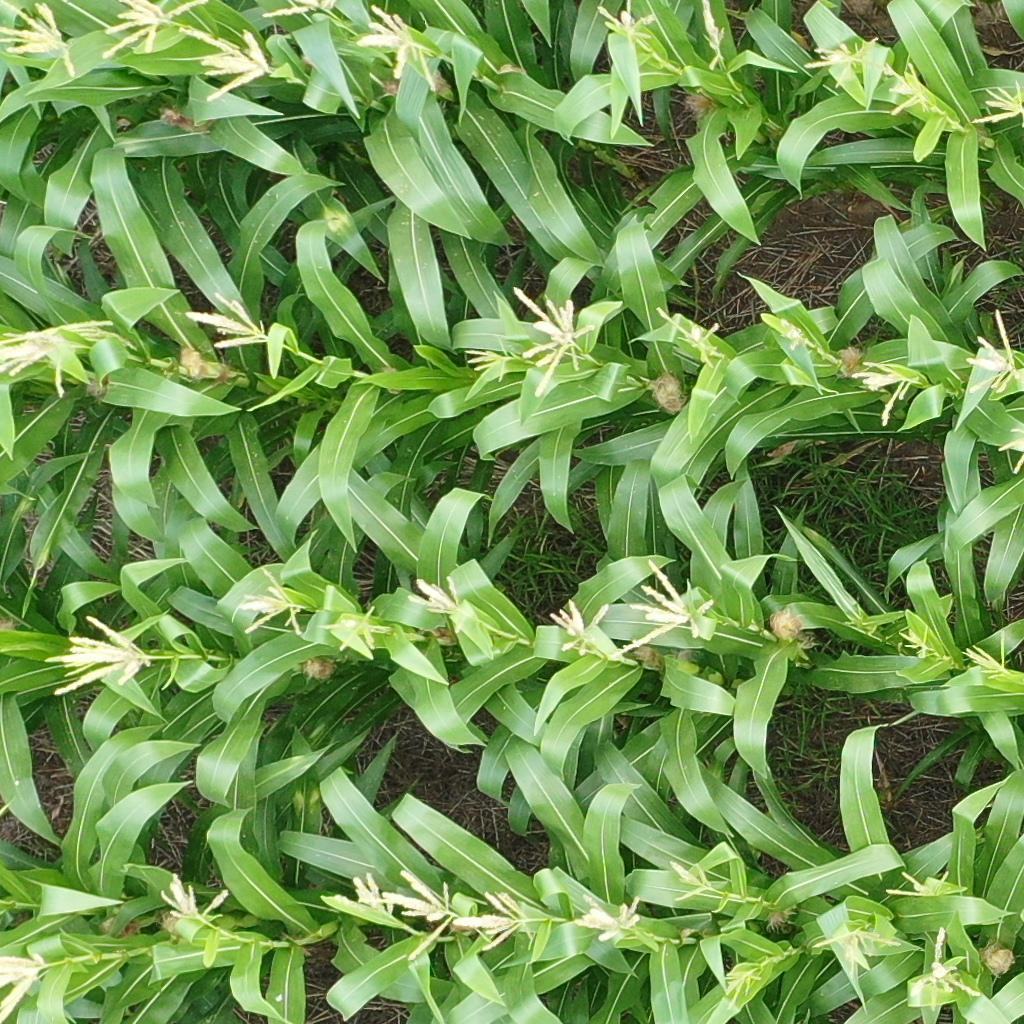Tassel: (604, 560, 718, 663), (1, 314, 136, 399), (514, 284, 600, 401), (42, 612, 152, 700), (378, 862, 459, 965), (357, 4, 441, 95), (906, 925, 981, 1015), (180, 29, 272, 100), (99, 1, 210, 58), (1, 1, 81, 79), (451, 887, 540, 956), (233, 565, 312, 638), (813, 921, 901, 983), (851, 358, 922, 430), (186, 294, 270, 351), (960, 310, 1011, 400), (655, 308, 727, 370), (152, 870, 229, 925), (571, 890, 647, 945), (547, 596, 609, 659), (803, 31, 877, 82), (597, 1, 661, 54), (324, 603, 390, 652), (1, 953, 46, 1024), (331, 871, 396, 918), (405, 571, 464, 621), (885, 865, 962, 903), (689, 1, 730, 69), (885, 63, 930, 119), (960, 633, 1011, 681), (666, 858, 715, 904), (721, 964, 763, 1011), (467, 346, 514, 383), (966, 81, 1003, 125), (898, 618, 937, 659), (259, 1, 342, 20), (998, 425, 1024, 473), (779, 320, 808, 352)
